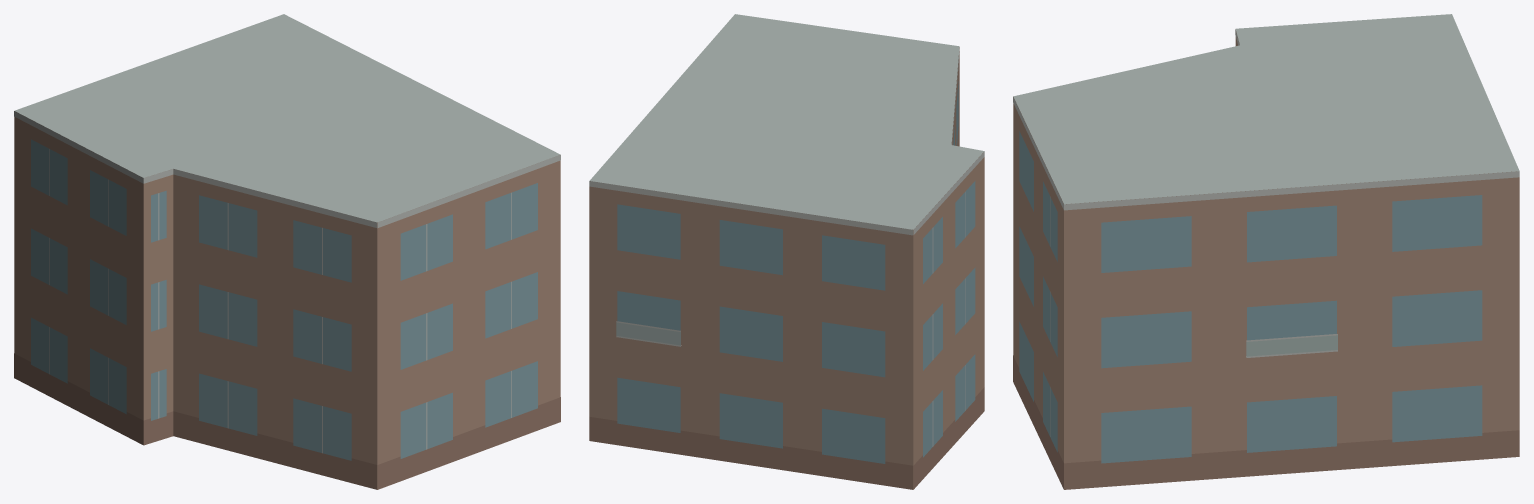
Rendered from survey-upis-32922563.glb.
3 views of the same model, side by side, from view 1: azimuth 30°, elevation 25°; view 2: azimuth 150°, elevation 25°; view 3: azimuth 270°, elevation 25° (orthographic). The views are drawn at different scales.
Visible parts, largest first — view 1: survey-upis-32922563.tmp; view 2: survey-upis-32922563.tmp; view 3: survey-upis-32922563.tmp.
Part boxes in pixels (x1=…): survey-upis-32922563.tmp: x1=14, y1=14, x2=560, y2=489; survey-upis-32922563.tmp: x1=589, y1=14, x2=984, y2=489; survey-upis-32922563.tmp: x1=1013, y1=14, x2=1519, y2=489.
Size of the model in its own units: 16.15 by 11.3 by 18.17.
